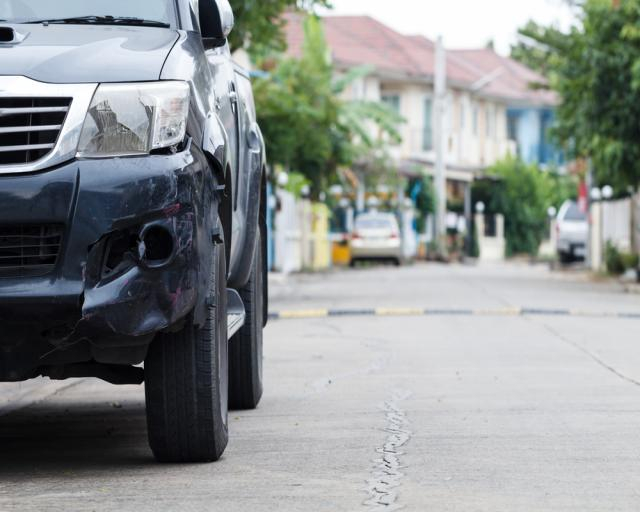crack: (45, 231, 112, 344)
dent: (118, 271, 172, 332)
lamp broken: (74, 81, 191, 160)
scratch: (147, 167, 198, 267)
